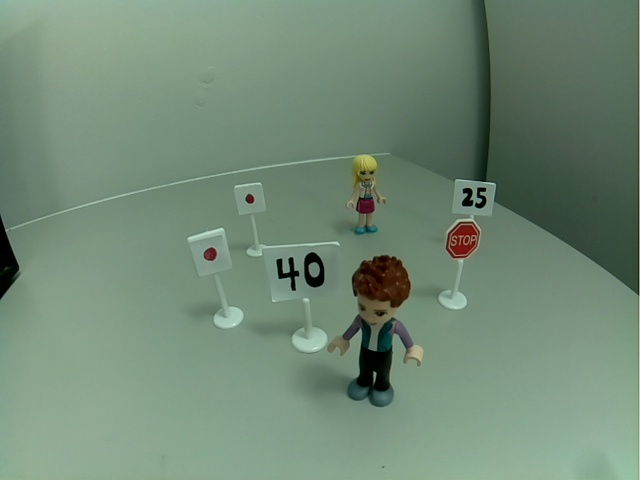people: (326, 249, 426, 406), (345, 154, 388, 236)
red light: (186, 226, 233, 280), (233, 181, 269, 216)
speed 25: (451, 175, 497, 219)
speed 40: (259, 239, 347, 302)
stop: (445, 218, 483, 262)
